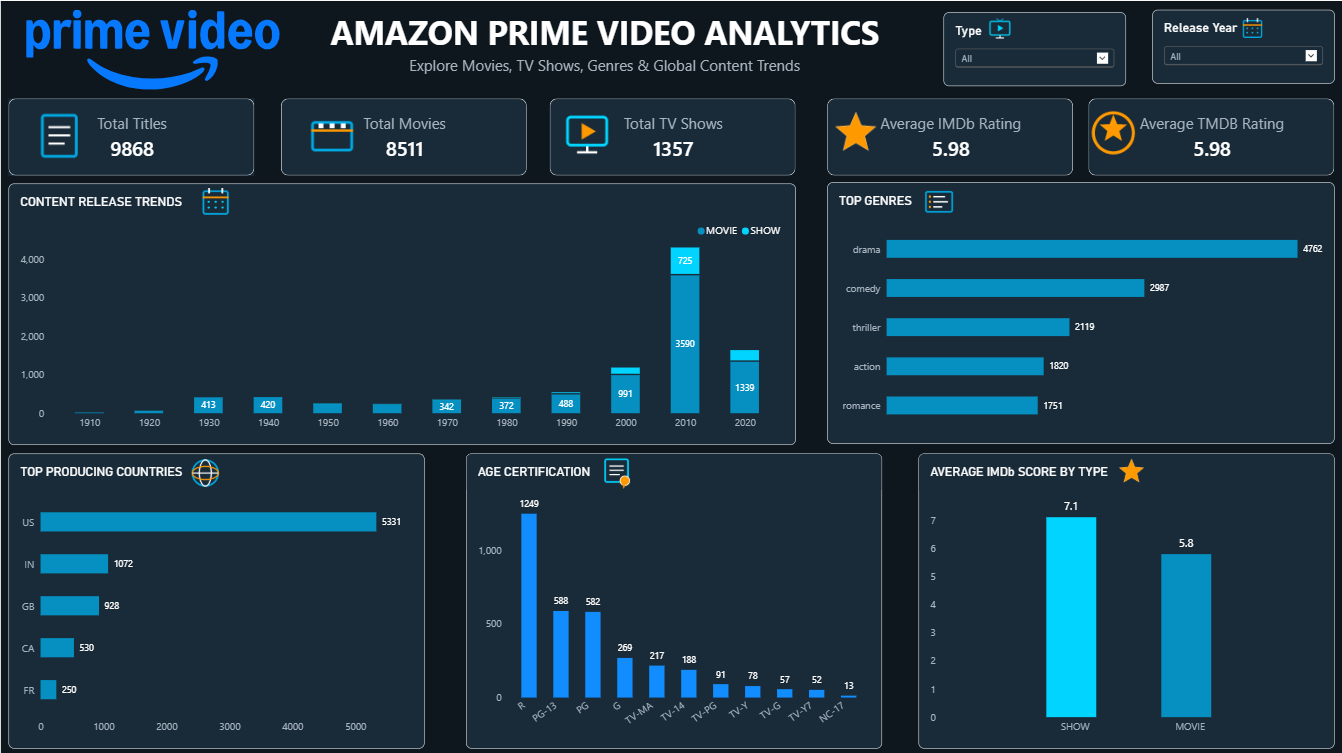

The dashboard page shown, as its layout file describes it:
{"tool":"powerbi","page":{"name":"Page 1","canvas":[1920,1080],"ordinal":0},"visuals":[{"type":"group","id":"g1","title":"Group 1","box":[1346.4,16.1,260.7,105.4],"z":0},{"type":"cardVisual","fields":{"Data":["Titles_Unique.Total Titles"]},"box":[10.7,139.3,351,110.7],"z":0,"group":"g9"},{"type":"textbox","title":"AMAZON PRIME VIDEO ANALYTICS","box":[428.6,12.5,867.9,100],"z":1000},{"type":"cardVisual","fields":{"Data":["Titles_Unique.Total Movies"]},"box":[400,139.3,351,110.7],"z":1000,"group":"g8"},{"type":"image","box":[7.1,12.5,421.4,114.3],"z":2000},{"type":"cardVisual","fields":{"Data":["Titles_Unique.Total TV Shows"]},"box":[783.9,139.3,351.8,110.7],"z":2000,"group":"g3"},{"type":"group","id":"g2","title":"Group 2","box":[1644.7,12.5,260.7,105.4],"z":3000},{"type":"cardVisual","fields":{"Data":["Titles_Unique.Average IMDb Rating"]},"box":[1180.3,139.3,351,110.7],"z":3000,"group":"g7"},{"type":"group","id":"g3","title":"Group 5","box":[779.6,139.3,1124.9,110.7],"z":4000},{"type":"cardVisual","fields":{"Data":["Titles_Unique.Average TMDB Rating"]},"box":[1553.5,139.3,351,110.7],"z":4000,"group":"g6"},{"type":"group","id":"g4","title":"Group 10","box":[10.7,139.3,1894.7,928.6],"z":5000},{"type":"columnChart","title":"CONTENT RELEASE TRENDS","fields":{"Category":["Titles_Unique.Release Decade"],"Series":["Titles_Unique.type"],"Y":["Count(Titles_Unique.id)"]},"box":[10.7,260.7,1125,373.2],"z":5000,"group":"g10"},{"type":"clusteredBarChart","title":"TOP GENRES","fields":{"Category":["Genres.genres"],"Y":["Titles_Unique.Genre Title Count"]},"box":[1180.3,258.9,725,373.2],"z":6000,"group":"g11"},{"type":"group","id":"g5","title":"Group 12","box":[10.7,646.4,1247.6,421.4],"z":6000},{"type":"clusteredBarChart","title":"TOP PRODUCING COUNTRIES","fields":{"Category":["Countries.production_countries"],"Y":["Titles_Unique.Country Title Count"]},"box":[10.7,646.4,594.6,421.4],"z":7000,"group":"g5"},{"type":"listSlicer","title":"Type","fields":{"Values":["Titles_Unique.type"]},"box":[1346.4,16.1,260.7,105.4],"z":7500,"group":"g1"},{"type":"columnChart","title":"AGE CERTIFICATION","fields":{"Category":["Titles_Unique.age_certification"],"Y":["Count(Titles_Unique.id)"]},"box":[664.3,646.4,594,421.4],"z":8000,"group":"g12"},{"type":"listSlicer","title":"Release Year","fields":{"Values":["Titles_Unique.release_year"]},"box":[1644.7,12.5,260.7,105.4],"z":9375,"group":"g2"},{"type":"clusteredColumnChart","title":"AVERAGE IMDb SCORE BY TYPE","fields":{"Category":["Titles_Unique.type"],"Y":["Avg(Titles_Unique.imdb_score)"]},"box":[1310.7,646.4,594,421.4],"z":9500,"group":"g4"},{"type":"image","box":[1762.6,19.6,50,39.3],"z":15750,"group":"g2"},{"type":"image","box":[1401.8,19.7,50.7,39.3],"z":16625,"group":"g1"},{"type":"image","box":[26.8,150,113,85.7],"z":17500,"group":"g9"},{"type":"image","box":[416.1,150,113,85],"z":17750,"group":"g8"},{"type":"image","box":[779.6,145,113,85],"z":19500,"group":"g3"},{"type":"image","box":[1164.2,146.4,113,85],"z":19750,"group":"g7"},{"type":"image","box":[1532.1,148.2,113.2,80],"z":21500,"group":"g6"},{"type":"image","box":[262.5,260.7,87.5,52.9],"z":21750,"group":"g10"},{"type":"image","box":[1296.4,260.7,87,52],"z":23500,"group":"g11"},{"type":"image","box":[248.2,648.2,87,52],"z":23750,"group":"g5"},{"type":"image","box":[835.7,646.4,87,52],"z":25500,"group":"g12"},{"type":"image","box":[1571.4,646.4,87,52],"z":26000,"group":"g4"},{"type":"group","id":"g6","title":"Group 3","box":[1532.1,139.3,372.4,110.7],"z":26003,"group":"g7"},{"type":"group","id":"g7","title":"Group 4","box":[1164.2,139.3,740.3,110.7],"z":26004,"group":"g3"},{"type":"group","id":"g8","title":"Group 6","box":[400,139.3,351,110.7],"z":26006,"group":"g9"},{"type":"group","id":"g9","title":"Group 7","box":[10.7,139.3,740.3,110.7],"z":26007,"group":"g10"},{"type":"group","id":"g10","title":"Group 8","box":[10.7,139.3,1125,494.6],"z":26008,"group":"g11"},{"type":"group","id":"g11","title":"Group 9","box":[10.7,139.3,1894.7,494.6],"z":26009,"group":"g4"},{"type":"group","id":"g12","title":"Group 11","box":[664.3,646.4,594,421.4],"z":26011,"group":"g5"}]}

Visuals, with their boxes in screenshot pixels (x1, y1, x2, y2), scaled from the page's 1920x1080 canvas onto the 1342x753 screenshot:
"Group 1" group: [941, 11, 1123, 85]
cardVisual - Titles_Unique.Total Titles: [7, 97, 253, 174]
"AMAZON PRIME VIDEO ANALYTICS" textbox: [300, 9, 906, 78]
cardVisual - Titles_Unique.Total Movies: [280, 97, 525, 174]
image: [5, 9, 300, 88]
cardVisual - Titles_Unique.Total TV Shows: [548, 97, 794, 174]
"Group 2" group: [1150, 9, 1332, 82]
cardVisual - Titles_Unique.Average IMDb Rating: [825, 97, 1070, 174]
"Group 5" group: [545, 97, 1331, 174]
cardVisual - Titles_Unique.Average TMDB Rating: [1086, 97, 1331, 174]
"Group 10" group: [7, 97, 1332, 745]
"CONTENT RELEASE TRENDS" columnChart: [7, 182, 794, 442]
"TOP GENRES" clusteredBarChart: [825, 181, 1332, 441]
"Group 12" group: [7, 451, 879, 744]
"TOP PRODUCING COUNTRIES" clusteredBarChart: [7, 451, 423, 744]
"Type" listSlicer: [941, 11, 1123, 85]
"AGE CERTIFICATION" columnChart: [464, 451, 879, 744]
"Release Year" listSlicer: [1150, 9, 1332, 82]
"AVERAGE IMDb SCORE BY TYPE" clusteredColumnChart: [916, 451, 1331, 744]
image: [1232, 14, 1267, 41]
image: [980, 14, 1015, 41]
image: [19, 105, 98, 164]
image: [291, 105, 370, 164]
image: [545, 101, 624, 160]
image: [814, 102, 893, 161]
image: [1071, 103, 1150, 159]
image: [183, 182, 245, 219]
image: [906, 182, 967, 218]
image: [173, 452, 234, 488]
image: [584, 451, 645, 487]
image: [1098, 451, 1159, 487]
"Group 3" group: [1071, 97, 1331, 174]
"Group 4" group: [814, 97, 1331, 174]
"Group 6" group: [280, 97, 525, 174]
"Group 7" group: [7, 97, 525, 174]
"Group 8" group: [7, 97, 794, 442]
"Group 9" group: [7, 97, 1332, 442]
"Group 11" group: [464, 451, 879, 744]
